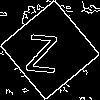Z: (25, 25, 60, 73)
